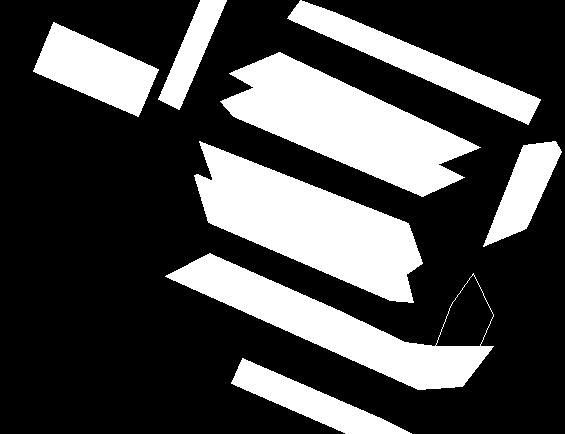parkingspot: (165, 253, 493, 389), (287, 0, 540, 124), (199, 141, 422, 274), (229, 52, 480, 165), (194, 174, 413, 302), (220, 85, 464, 196), (231, 358, 413, 434), (33, 22, 158, 116), (483, 141, 561, 246), (158, 0, 226, 109)
